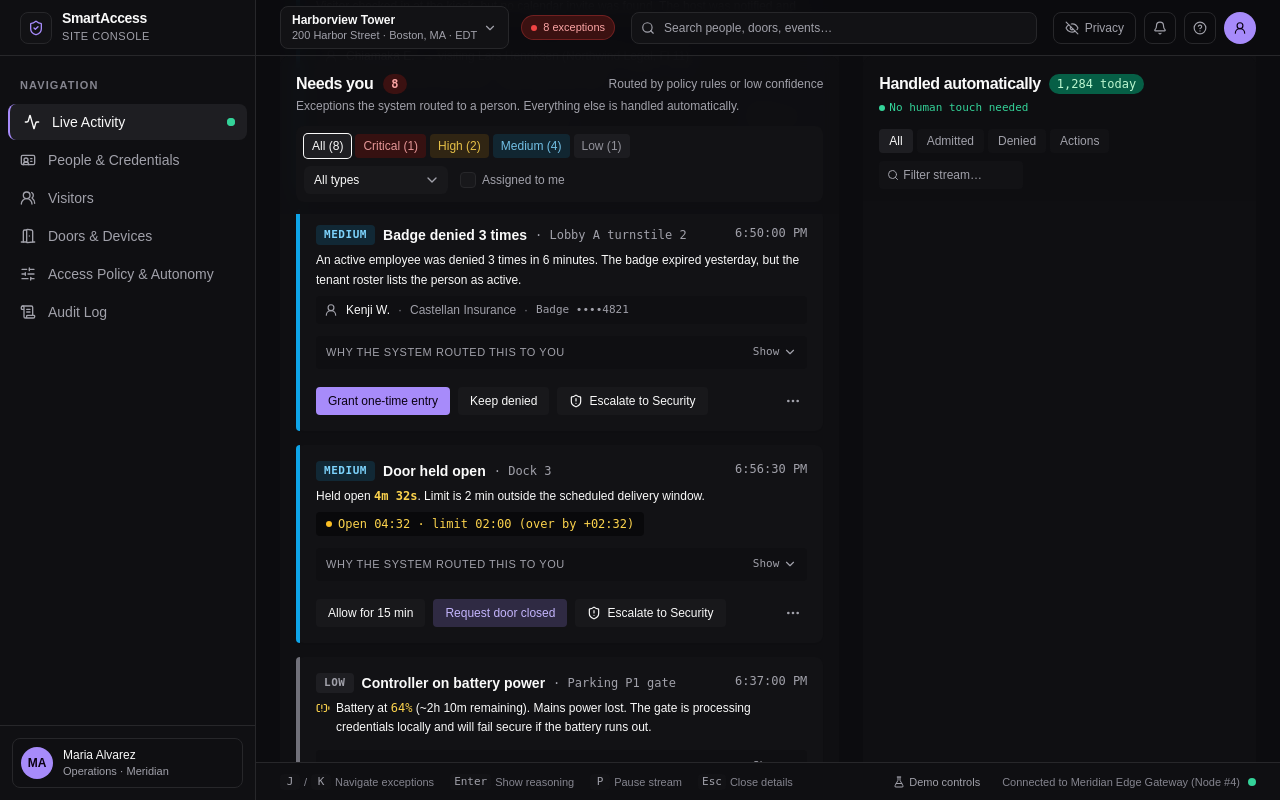
Test: Live Activity console › a decision removes the card and is logged
(page scrolled)
Click the button "Grant one-time entry": coordinates (383, 401) [316, 387, 450, 415]
(page scrolled)
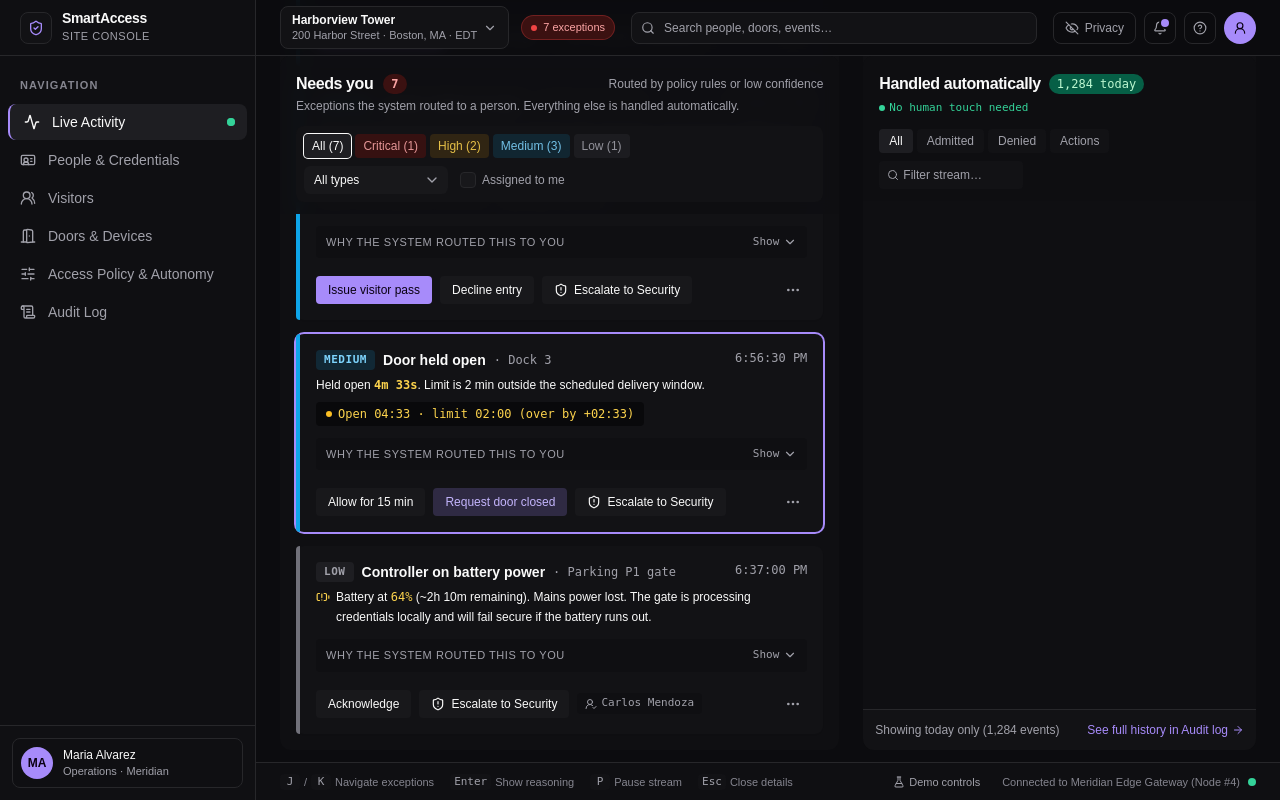
expect the heading "Badge denied 3 times" is gone: met
